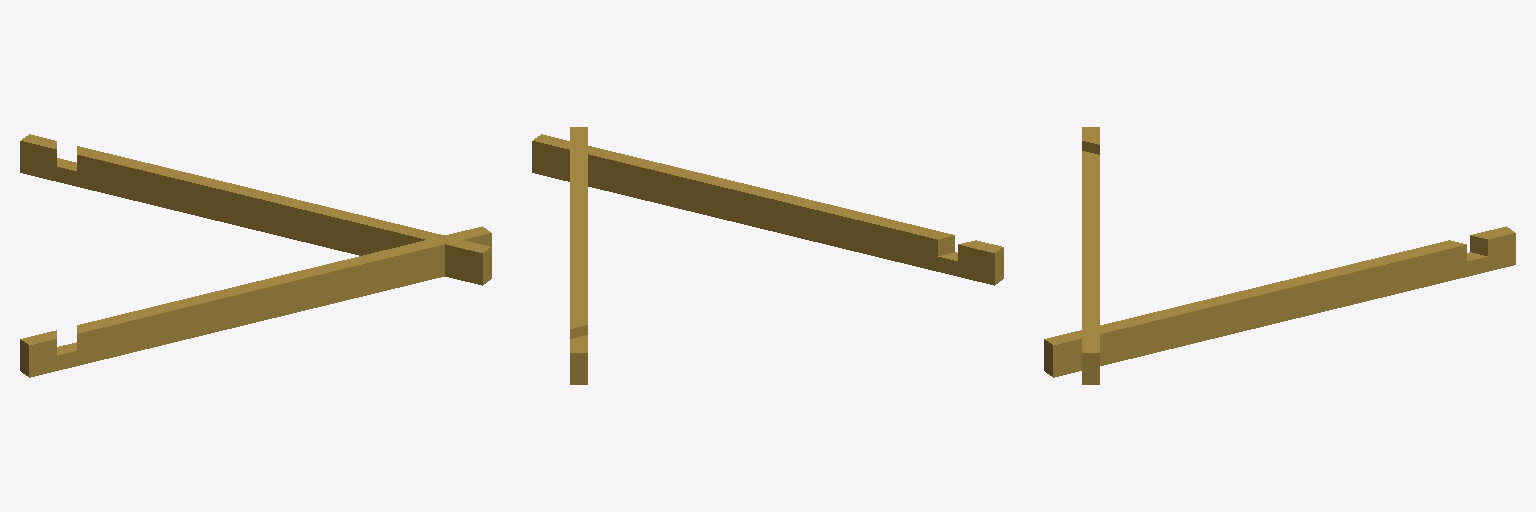
The robot description file, URDF, robot "beam_2C_90deg_3mm":
<?xml version="1.0" ?>
<robot name="beam_2C_90deg_3mm">


    <!-- Import Rviz colors -->
    <material name="beam_color">
        <color rgba="0.72 0.60 0.30 1.0"/>
    </material>

    <!-- Joint from Base to FT-Sensor Below -->
    <joint name="joint_base" type="fixed">
        <parent link="base"/>
        <child link="beam_2C_90deg_3mm"/>
        <origin rpy="0 0 0 " xyz="0.0 0.0 0.0"/>
        <dynamics damping="0.5"/>
    </joint>

    <!-- Virtual Base Link -->
    <link name="base">
      <inertial>
          <origin rpy="0 0 0" xyz="0 0 0"/>
          <mass value="0.001"/>
          <inertia ixx="0.001" ixy="0" ixz="0" iyy="0.001" iyz="0" izz="0.001"/>
      </inertial>
    </link>

    <!-- Beam Link -->
    <link name="beam_2C_90deg_3mm">
        <inertial>
            <origin rpy="0 0 0" xyz="-7.039904321215437e-17 2.2221920205856806e-20 -0.00028483352761386483"/>
            <mass value="1.9549599948003116"/>
            <inertia ixx="2.6080195612833765e-06" ixy="3.914636633752519e-39" ixz="-9.306456843444792e-22" iyy="0.0005179224270478861" iyz="-6.979084825602558e-24" izz="0.000516357052770553"/>
        </inertial>
        <visual>
            <geometry>
                <mesh filename="gripper_double_notch_delta_target/meshes/visual/gripper_double_notch_delta_target.stl"/>
            </geometry>
            <material name="beam_color"/>
        </visual>
        <collision>
            <geometry>
                <mesh filename="gripper_double_notch_delta_target/meshes/collision/delta_target_00.stl"/>
            </geometry>
        </collision>
        <collision>
            <geometry>
                <mesh filename="gripper_double_notch_delta_target/meshes/collision/delta_target_01.stl"/>
            </geometry>
        </collision>
        <collision>
            <geometry>
                <mesh filename="gripper_double_notch_delta_target/meshes/collision/delta_target_02.stl"/>
            </geometry>
        </collision>
        <collision>
            <geometry>
                <mesh filename="gripper_double_notch_delta_target/meshes/collision/delta_target_03.stl"/>
            </geometry>
        </collision>
        <collision>
            <geometry>
                <mesh filename="gripper_double_notch_delta_target/meshes/collision/delta_target_04.stl"/>
            </geometry>
        </collision>
        <collision>
            <geometry>
                <mesh filename="gripper_double_notch_delta_target/meshes/collision/delta_target_05.stl"/>
            </geometry>
        </collision>
        <collision>
            <geometry>
                <mesh filename="gripper_double_notch_delta_target/meshes/collision/delta_target_06.stl"/>
            </geometry>
        </collision>
    </link>
</robot>

--- What the picture shows (computed from the rendered views, not written in the file) ---
3 views of the same robot in one strip: view 1: azimuth 30°, elevation 25°; view 2: azimuth 150°, elevation 25°; view 3: azimuth 270°, elevation 25° (orthographic).
Model beam_2C_90deg_3mm with 2 links and 1 joints (1 fixed), rooted at base, posed all joints at 0.
Links seen in each view (by area): view 1: beam_2C_90deg_3mm; view 2: beam_2C_90deg_3mm; view 3: beam_2C_90deg_3mm.
Boxes of the visible links, bbox=[...] form: beam_2C_90deg_3mm: bbox=[20, 134, 491, 377]; beam_2C_90deg_3mm: bbox=[532, 127, 1003, 384]; beam_2C_90deg_3mm: bbox=[1044, 127, 1515, 384].
Bounding box of the posed robot: 1.2 × 1.06 × 0.08 m (x, y, z).
Meshes: 1 distinct files referenced, 1 mesh visuals loaded (1 binary STL).
